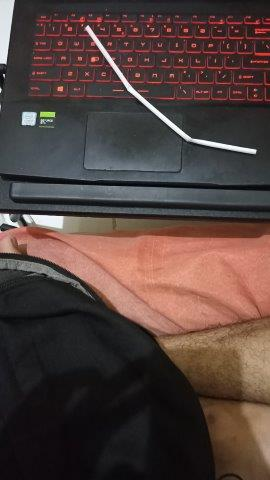sedotan: (86, 26, 256, 155)
